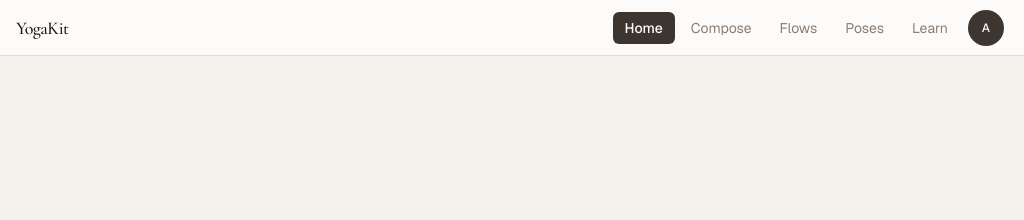
Test: FR-028: sign-in / sign-out reachable from the primary header › signed in: sign-out is reachable from the header avatar menu
This screenshot has width=1024, height=220.
Click the button with test id "account-avatar" at [986, 28], box [964, 6, 1008, 50]
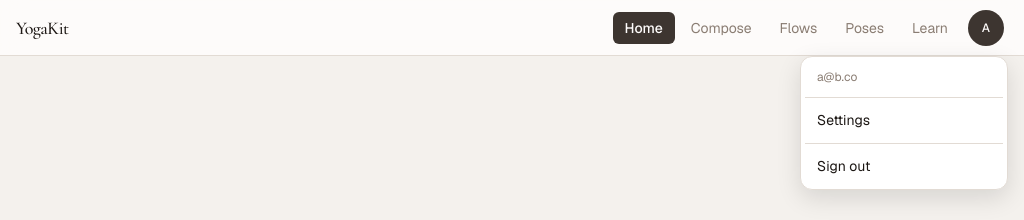
Expected: the menu item with test id "account-menu-sign-out" is shown, [817, 157, 870, 175]
